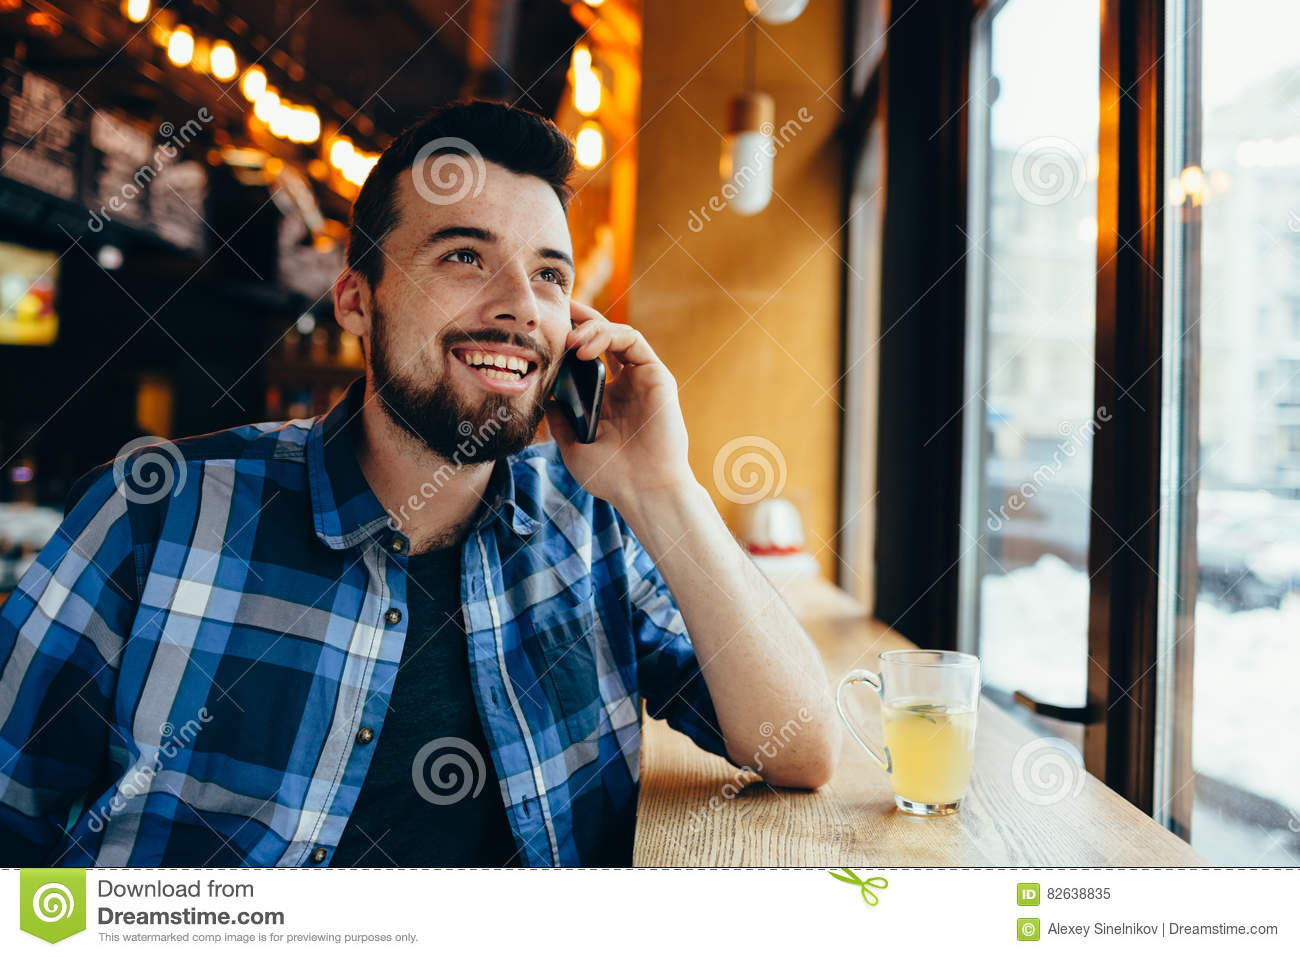phone: (556, 338, 606, 447)
talk: (407, 217, 687, 521)
